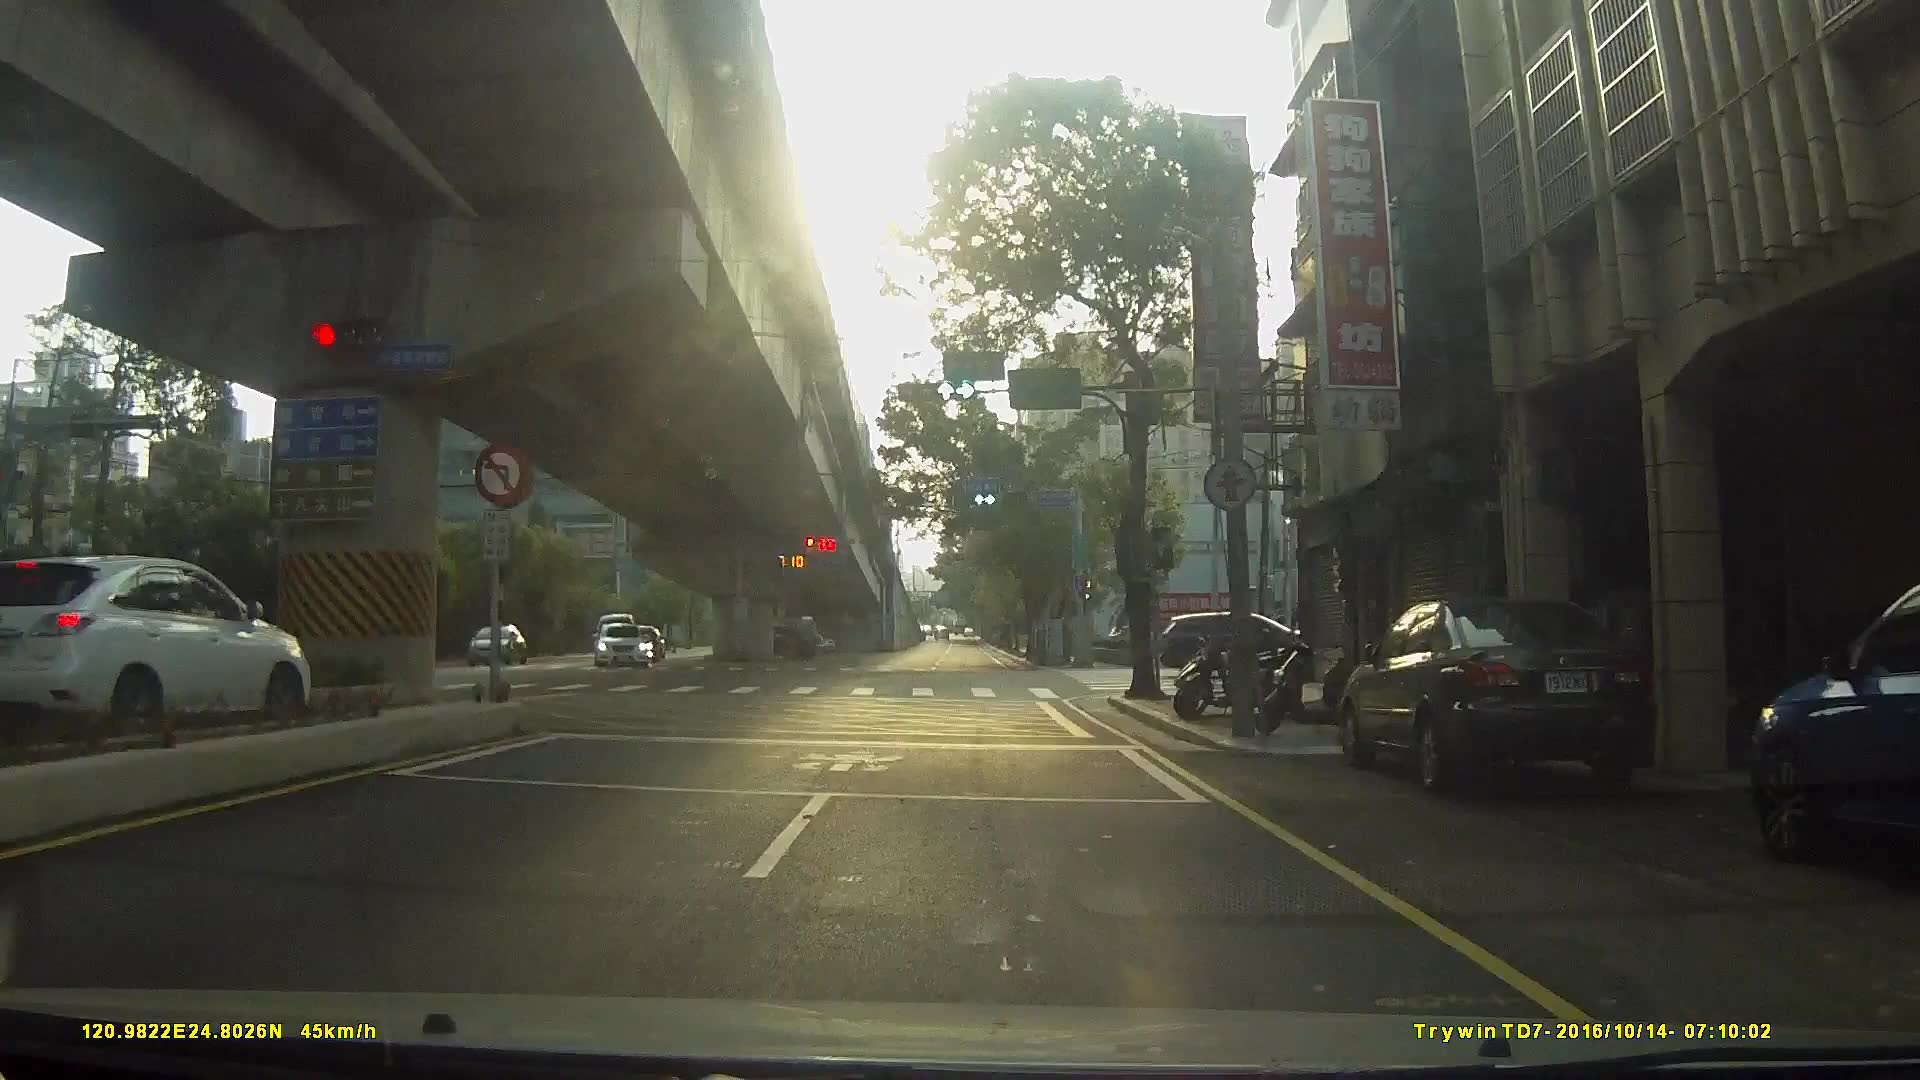vehicle: (1328, 593, 1672, 807), (1, 549, 334, 741), (1741, 572, 1920, 884), (1167, 611, 1317, 671), (459, 622, 522, 666), (589, 621, 647, 667), (754, 620, 820, 659)
